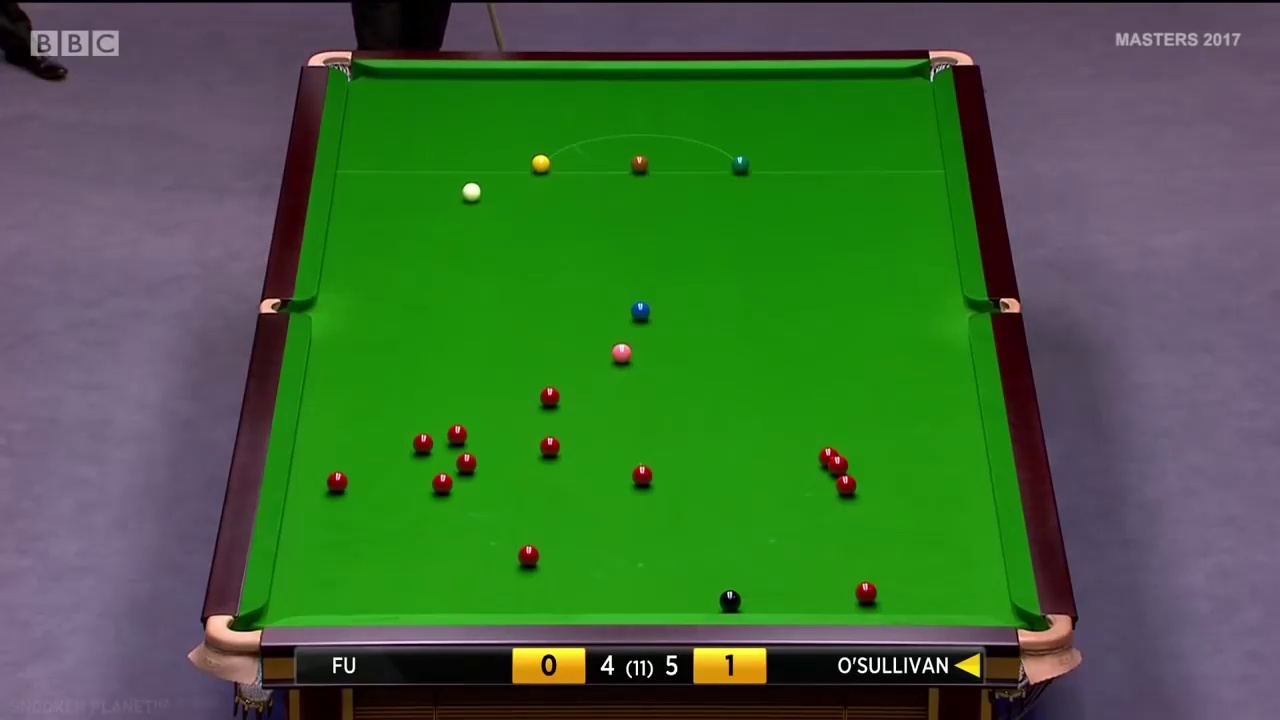ball: (854, 580, 881, 606), (608, 345, 635, 367), (537, 384, 561, 408), (538, 435, 562, 459), (628, 154, 651, 178), (515, 545, 539, 568), (834, 472, 857, 496), (446, 422, 468, 447), (629, 298, 650, 324), (325, 471, 346, 495), (633, 461, 652, 487), (460, 181, 482, 203), (430, 475, 452, 497), (412, 433, 433, 455), (532, 152, 551, 176), (729, 154, 753, 172)
